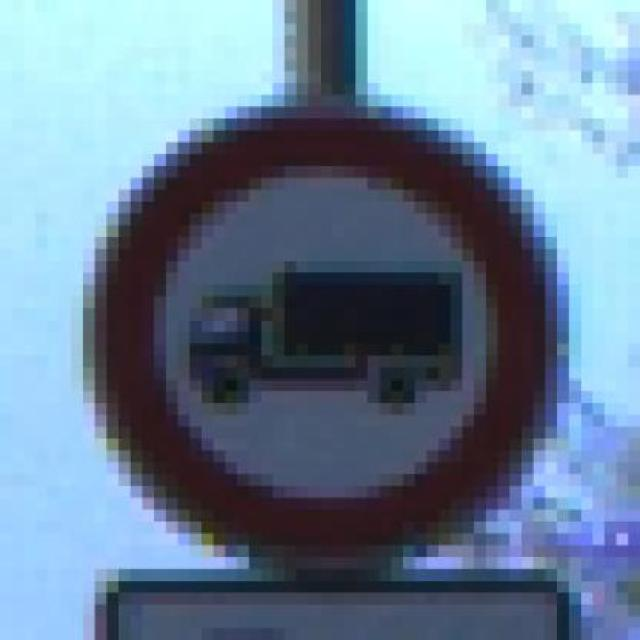Truck traffic is prohibited: (59, 83, 581, 557)
